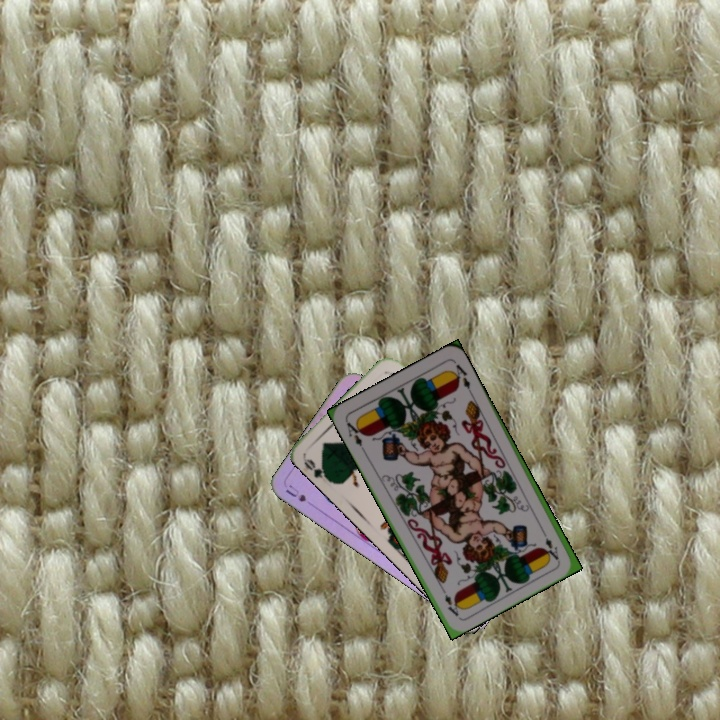EA: (342, 417, 368, 454), (537, 525, 561, 563)
GO: (300, 455, 335, 485)
SU: (281, 481, 319, 509)
